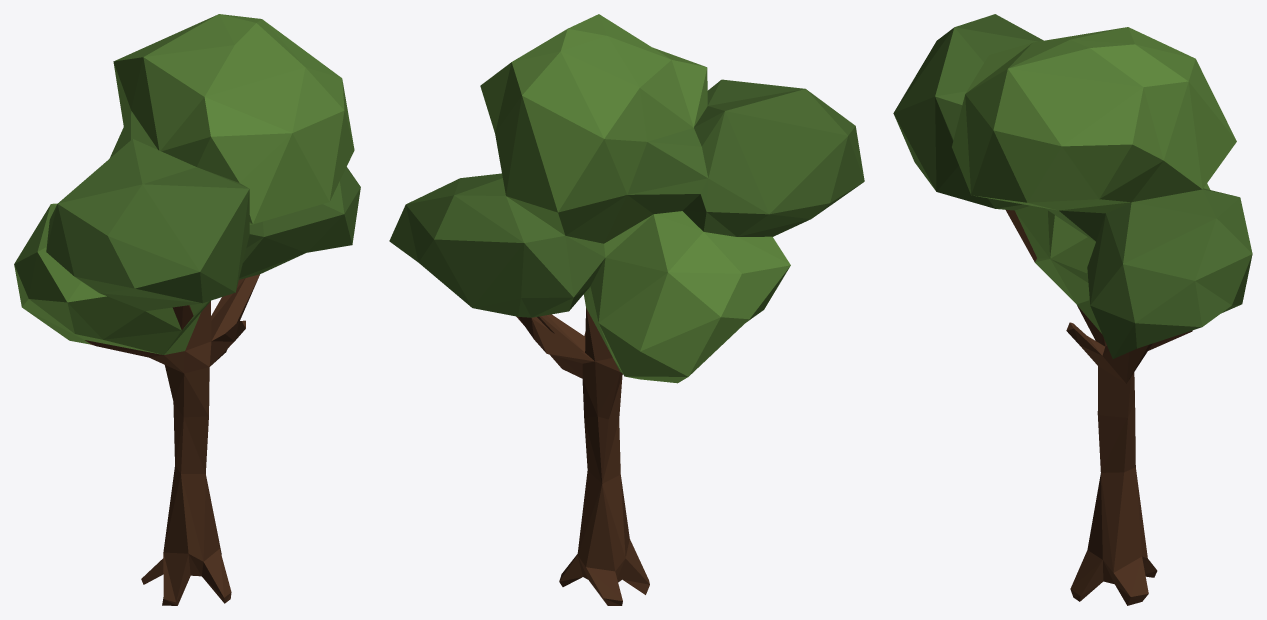
File: Tree_02.fbx
3 renders of one model, left to right at view 1: azimuth 30°, elevation 25°; view 2: azimuth 150°, elevation 25°; view 3: azimuth 270°, elevation 25°, orthographic. The views are drawn at different scales.
Parts seen in each view (by area): view 1: Cylinder; view 2: Cylinder; view 3: Cylinder.
Boxes of the visible parts, x1,y1,x2,y2 form: Cylinder: (14, 14, 360, 605); Cylinder: (389, 14, 864, 605); Cylinder: (893, 14, 1252, 605).
Bounding box in the file's own units: 413 × 592 × 338.
